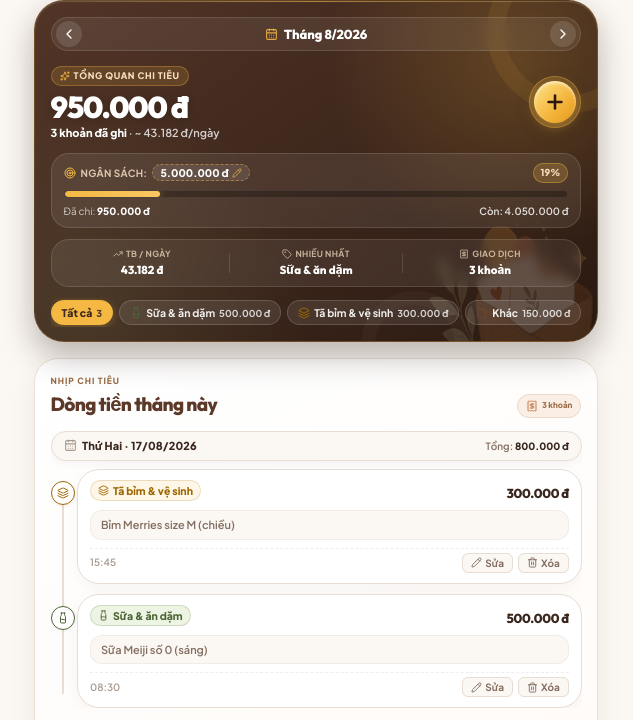
ExpensesView Component › allows filtering timeline by category
What coordinates should you click on to do the following:
click the button "Sữa & ăn dặm 500.000 đ"
I would click on:
 (200, 313)
Its box is [119, 300, 281, 325].
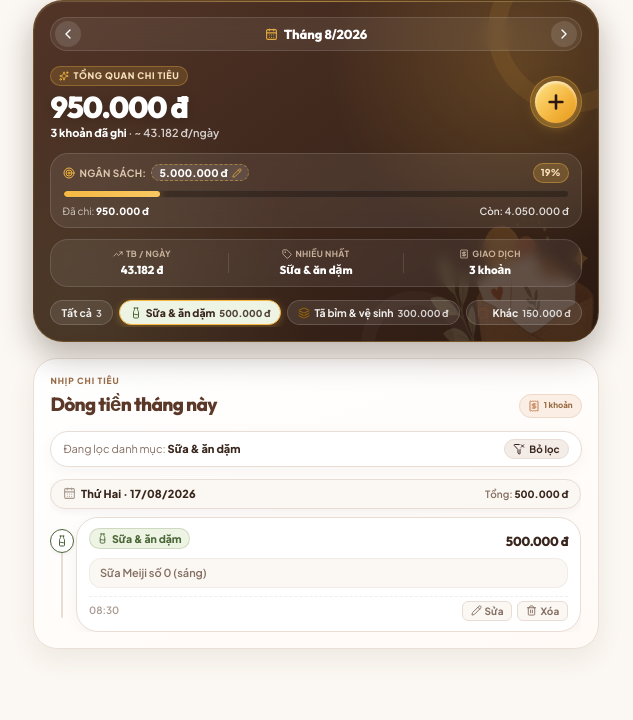
Check: the text "Sữa Meiji số 0 (sáng)" is shown, box [100, 566, 207, 579]
Check: the text "Đang lọc danh mục: Sữa & ăn dặm" is shown, box [63, 441, 240, 457]
Check: the text "Bỉm Merries size M (chiều)" is gone
What coordinates should you click on to do the following:
click the button "Bỏ lọc"
I would click on:
 (536, 449)
Its box is [504, 439, 569, 459].
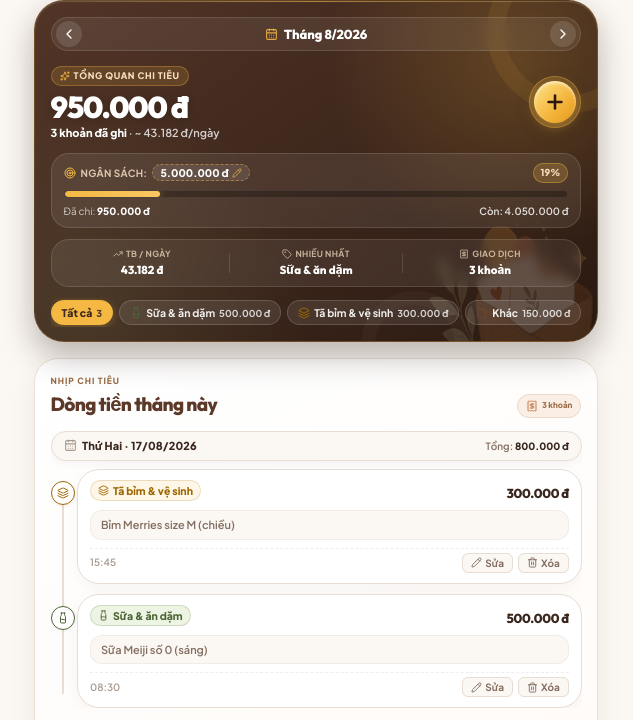
Check: the text "Bỉm Merries size M (chiều)" is shown, box [101, 518, 234, 531]
